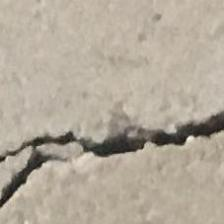Crack: (0, 108, 224, 213)
